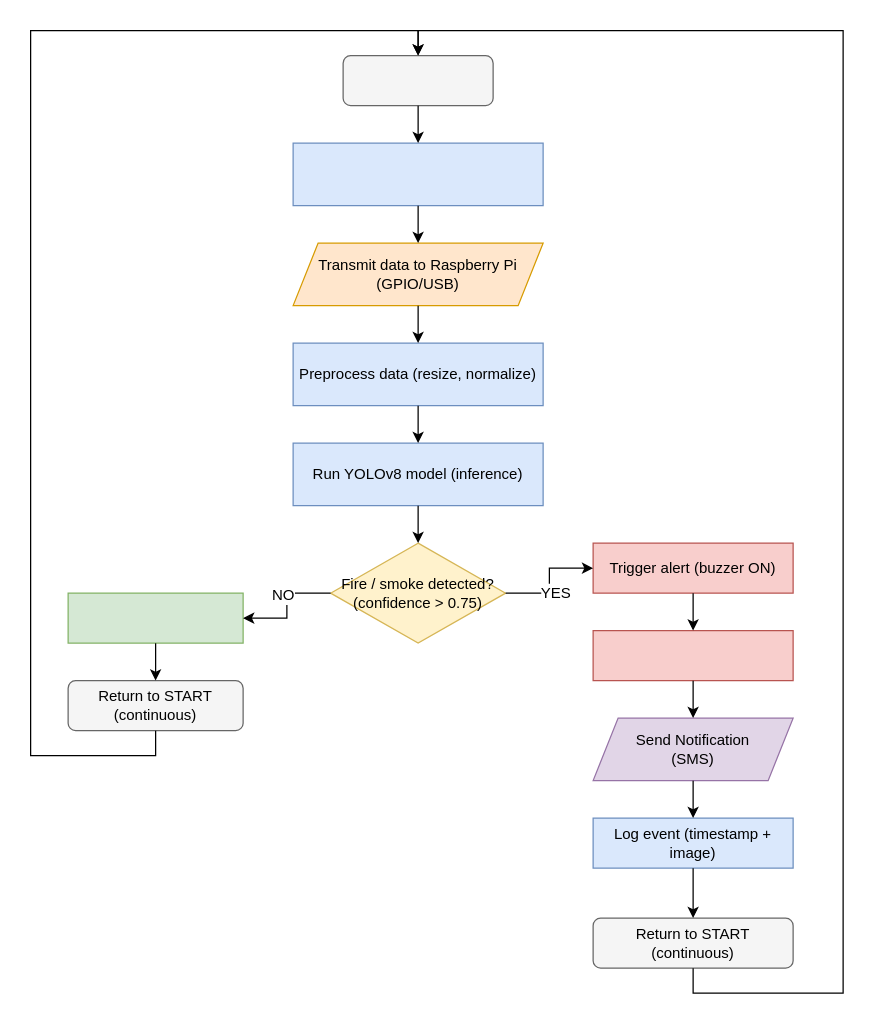
Image size: 875x1025. Some labels were removed from this diagram. Here are the shapes that lost their labels. From the top down, the box of each, then its label:
(342, 54, 493, 106): START
(292, 142, 543, 206): Read sensor data (camera, DHT11, MQ-135)
(67, 592, 243, 643): Log normal status
(592, 629, 793, 681): Activate suppression (relay → water pump)
